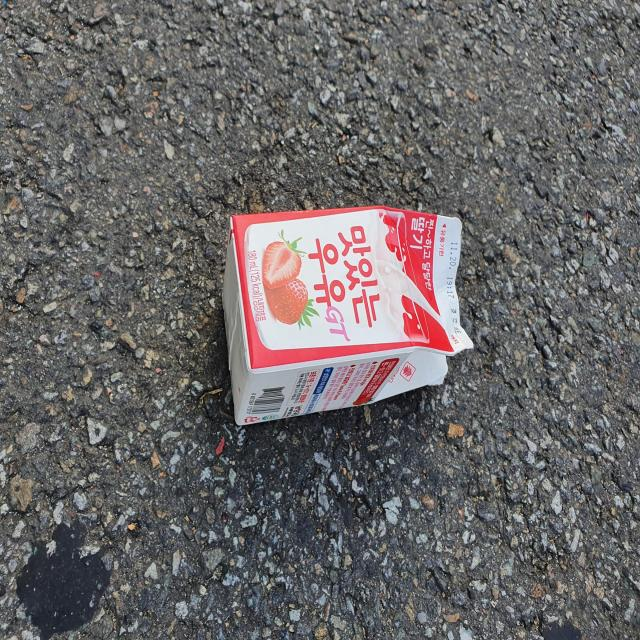paperpack: (223, 206, 474, 425)
